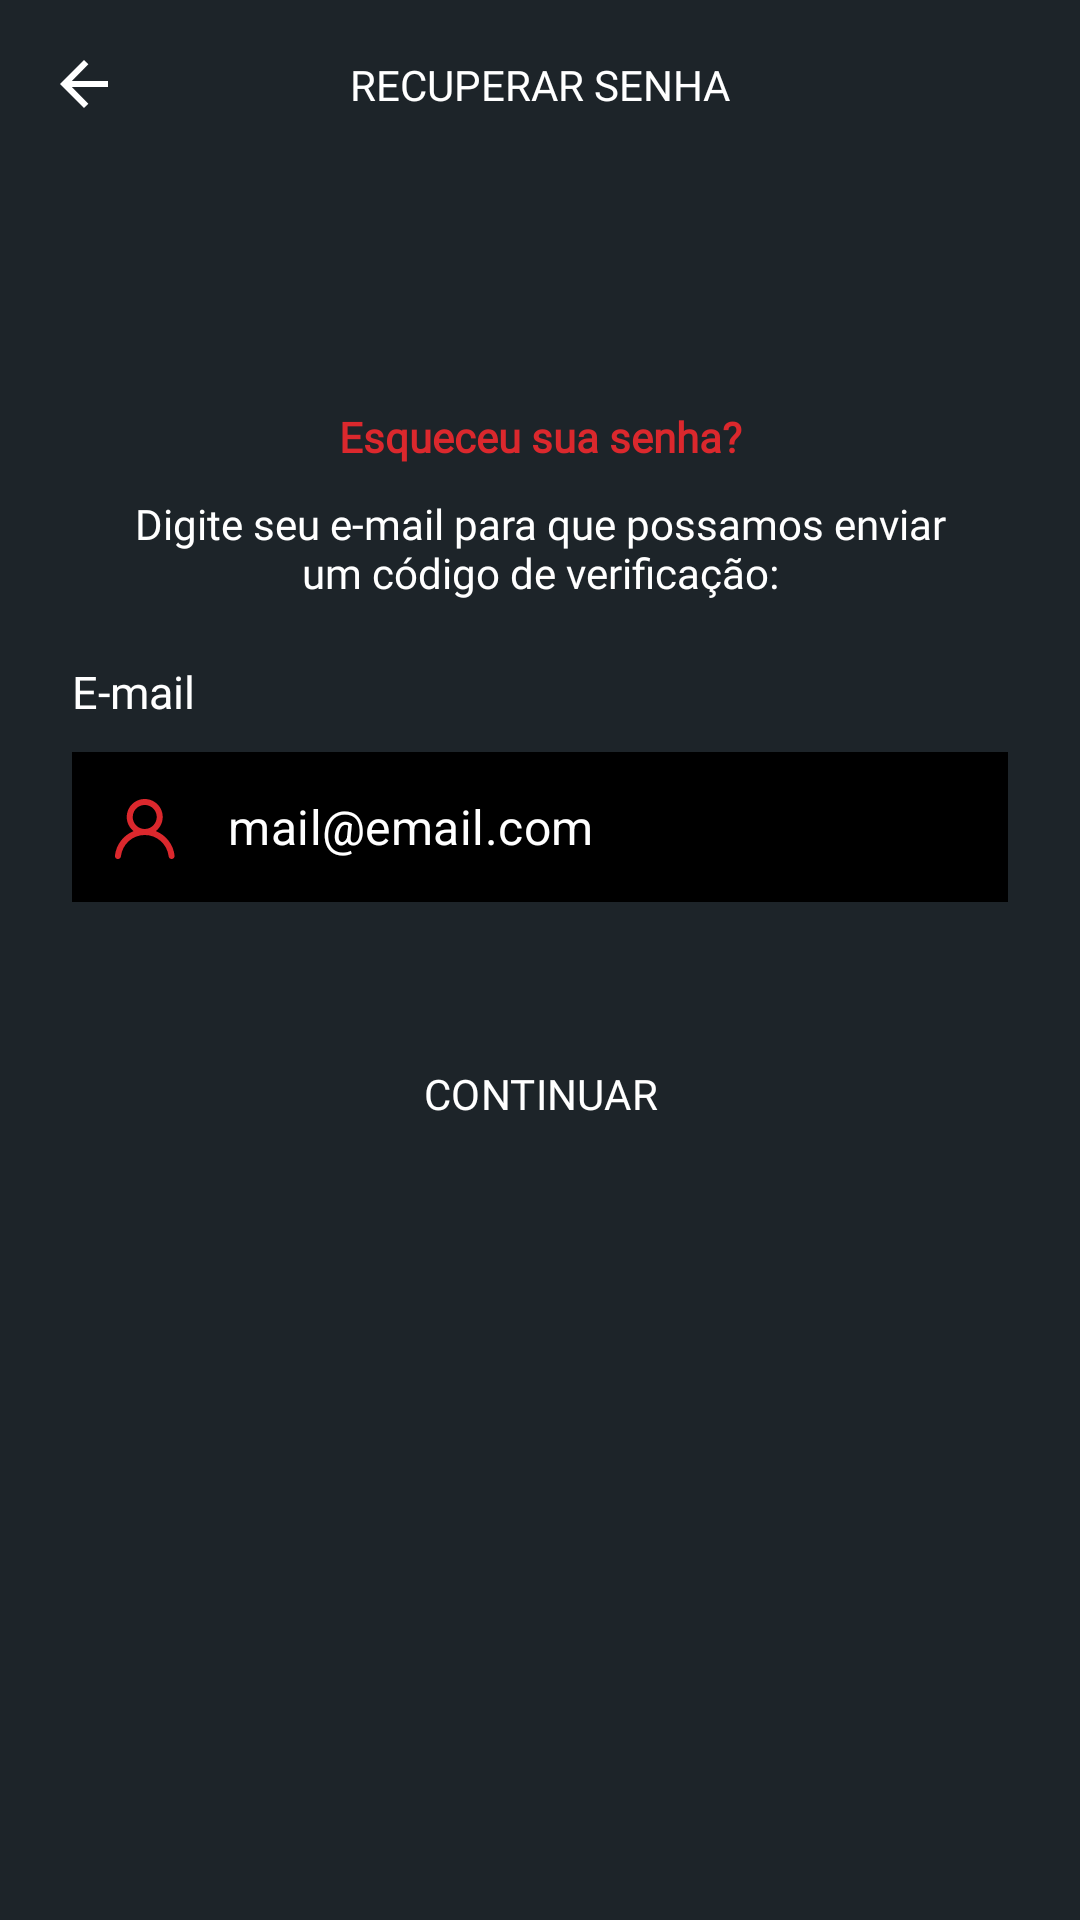

Icons on this 1080 x 1920 Android screen, each with the point to tap as (x,y):
left arrow: (84,84)
